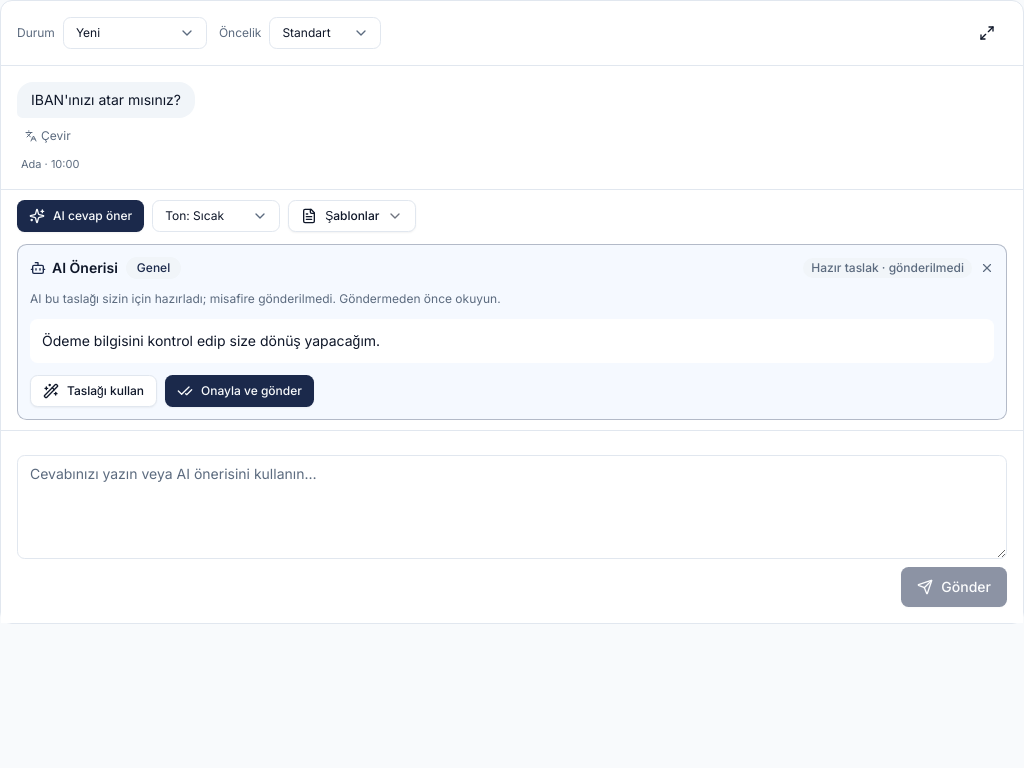
Test: ConversationThread — hazır taslak › açılışta hazır: metin + 'Hazır taslak · gönderilmedi' (güven rozeti YOK); 'Taslağı kullan' yazma kutusuna koyar, göndermez
The width and height of the screenshot is (1024, 768).
Expected: the text with test id "prepared-draft-badge" reads "Hazır taslak · gönderilmedi", [811, 260, 964, 274]
Expected: the text "Ödeme bilgisini kontrol edip size dönüş yapacağım." is shown, [30, 318, 994, 362]
Click the button "Taslağı kullan".
click(94, 390)  # box [30, 374, 157, 406]
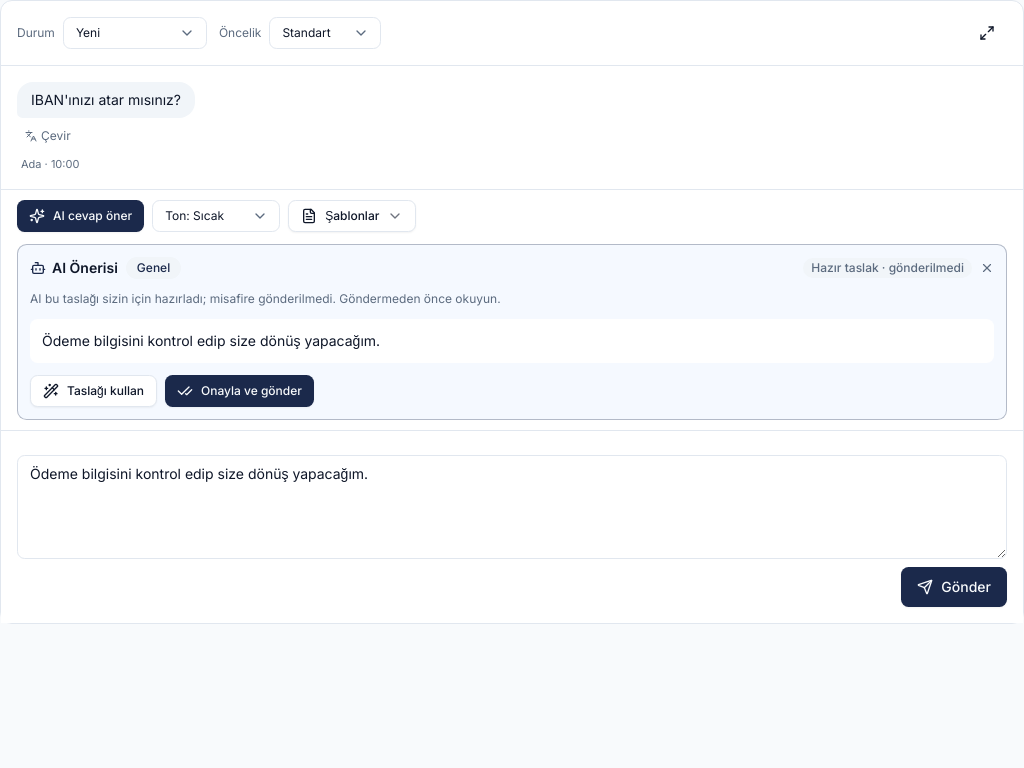
Result: the text box named "Misafire cevabınız" holds "Ödeme bilgisini kontrol edip size dönüş yapacağım." at [17, 454, 1007, 558]
